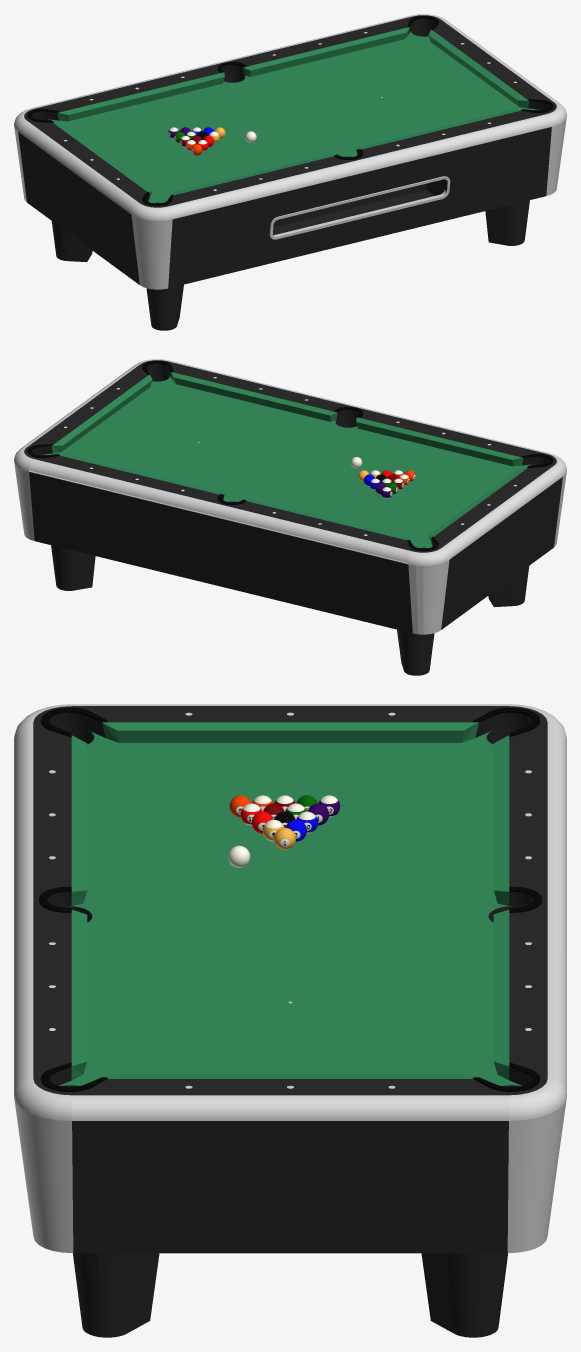
Rendered from MSH_Billar.FBX.
3 views of the same model, one above another, from view 1: azimuth 30°, elevation 25°; view 2: azimuth 150°, elevation 25°; view 3: azimuth 270°, elevation 25° (orthographic). The views are drawn at different scales.
Parts seen in each view (by area): view 1: MSH_Billar; view 2: MSH_Billar; view 3: MSH_Billar.
Boxes of the visible parts, x1,y1,x2,y2 form: MSH_Billar: [14, 14, 566, 330]; MSH_Billar: [14, 359, 566, 675]; MSH_Billar: [14, 704, 566, 1337].
Size of the model in its own units: 2.48 by 0.7622 by 1.43.
